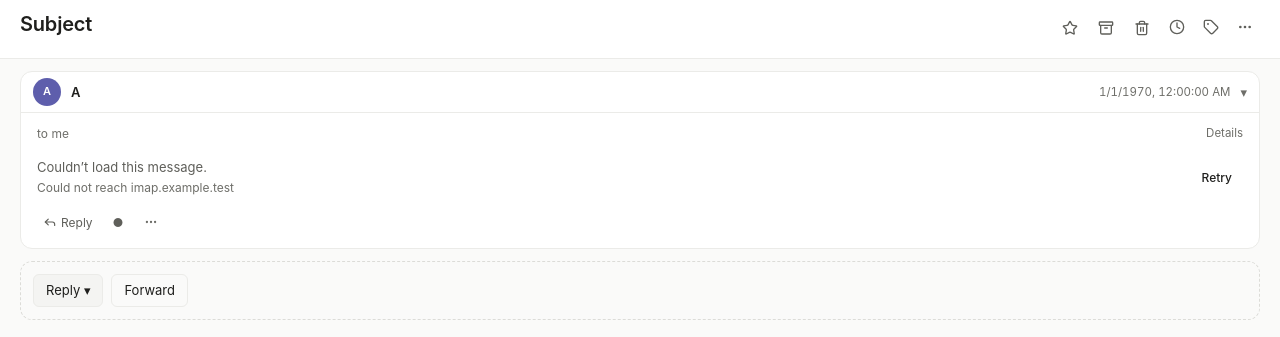
Test: P9.2 reader recovery and isolation › shows a retry surface instead of the provider text, and recovers on retry
Check: the message shows "Couldn’t load this message.", box x1=37 y1=159 x2=207 y2=175
Click the button "Retry".
click(1217, 178)  # box x1=1190 y1=164 x2=1243 y2=192
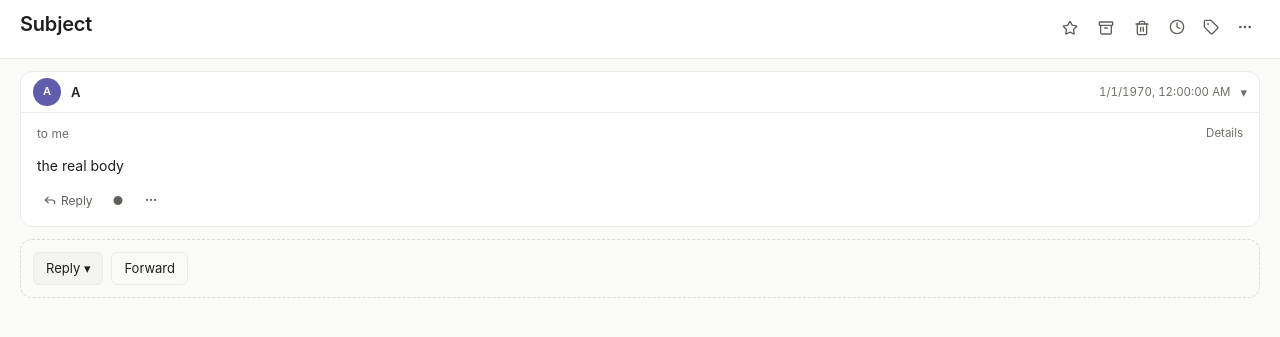
Check: the message "Couldn’t load this message. Could not reach imap.example.test Retry" is gone
Check: the text "the real body" is shown, box x1=37 y1=157 x2=124 y2=174
